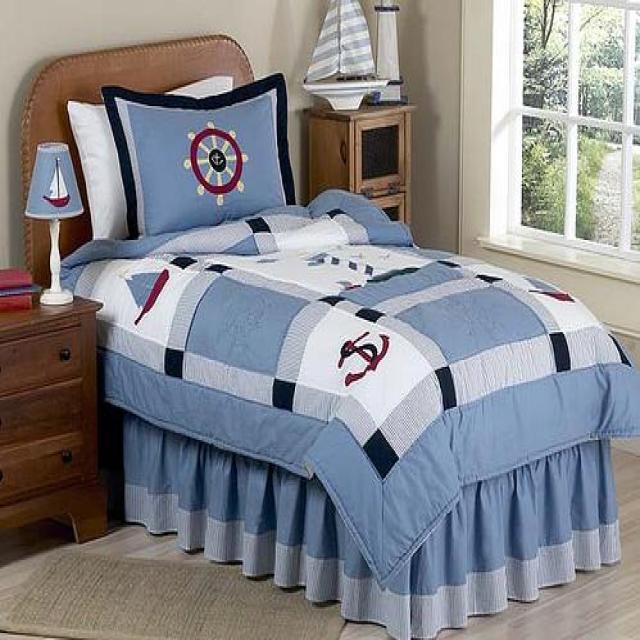bed: (19, 31, 639, 638)
